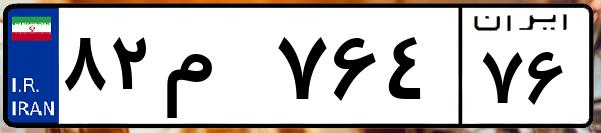2: (110, 28, 158, 98)
4: (385, 28, 445, 110)
6: (330, 28, 385, 110), (525, 38, 570, 115)
7: (270, 28, 330, 110), (475, 38, 525, 113)
8: (57, 26, 110, 100)
م: (158, 20, 270, 120)
